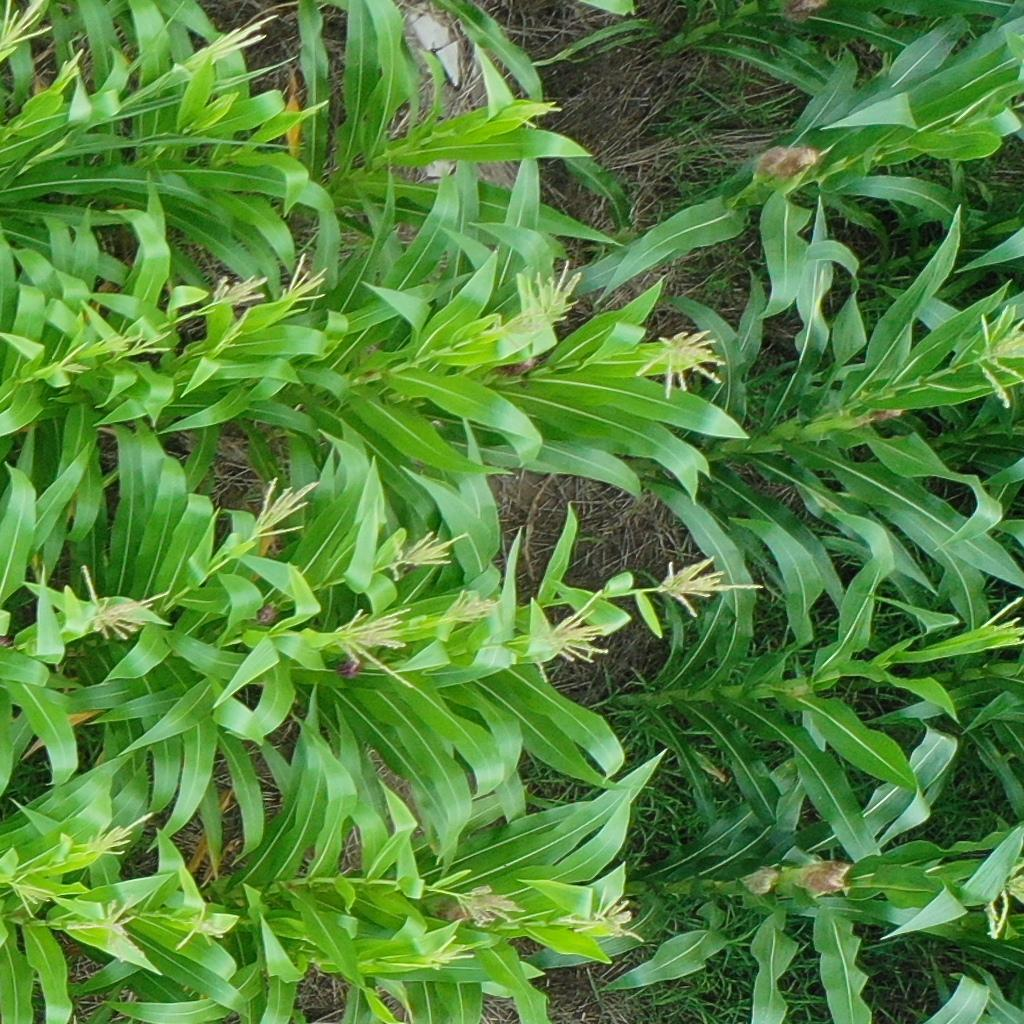Tassel: (524, 589, 622, 686), (332, 602, 423, 695), (631, 324, 734, 403), (79, 566, 168, 653), (655, 556, 770, 619), (500, 259, 585, 344), (176, 13, 283, 76), (964, 303, 1024, 414), (66, 892, 153, 966), (558, 885, 650, 952), (248, 474, 319, 543), (385, 527, 467, 582), (79, 812, 157, 859), (984, 856, 1024, 938), (1, 1, 56, 58), (205, 309, 257, 367), (455, 883, 523, 927), (172, 903, 227, 956), (6, 864, 58, 920), (977, 595, 1024, 654), (283, 251, 332, 307), (416, 933, 476, 976), (121, 324, 179, 366), (207, 274, 273, 310), (83, 329, 148, 365), (510, 97, 568, 135), (446, 588, 502, 625), (48, 49, 88, 95)
